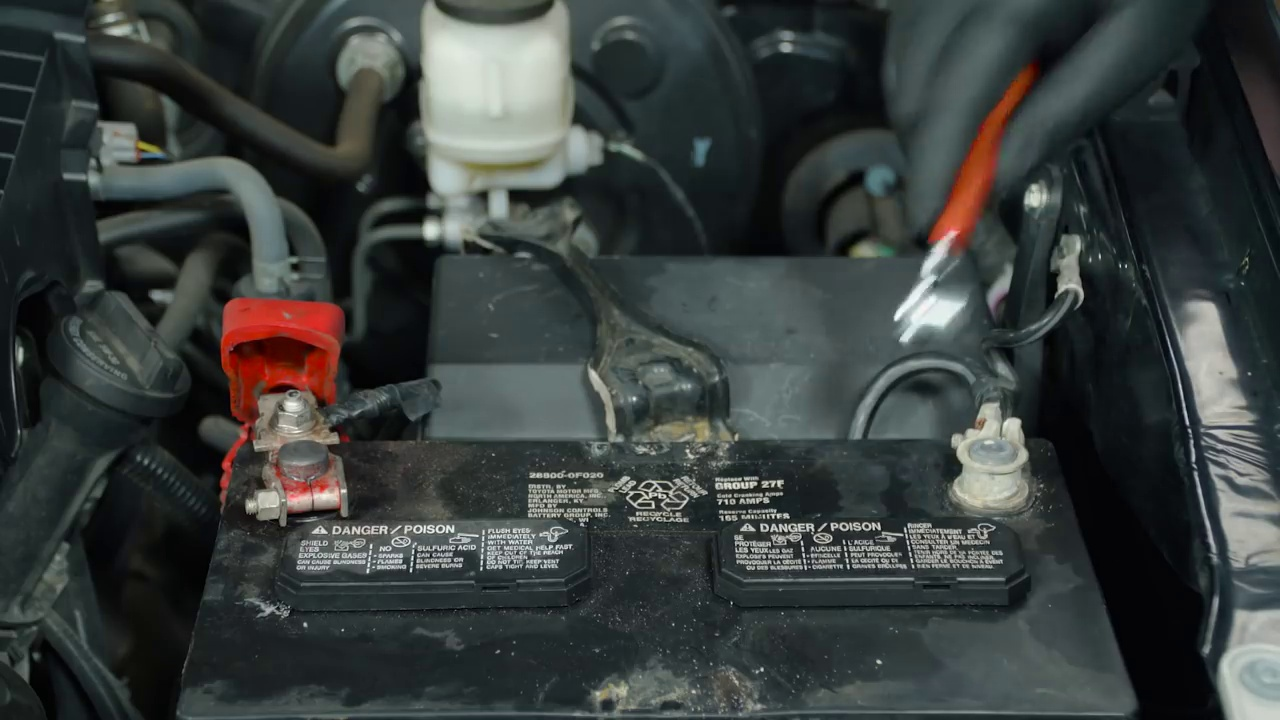battery: (229, 408, 1152, 720)
neg_connected: (935, 348, 1057, 513)
pos_connected: (211, 292, 368, 531)
